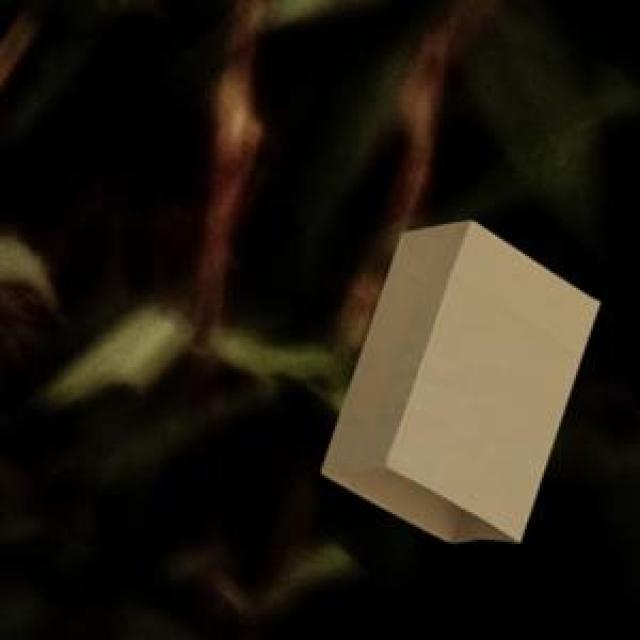paper: (318, 218, 595, 538)
